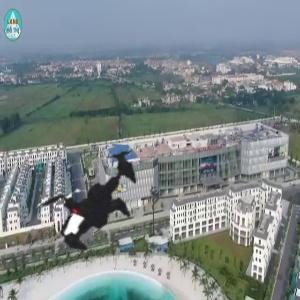drone: (6, 110, 178, 282)
